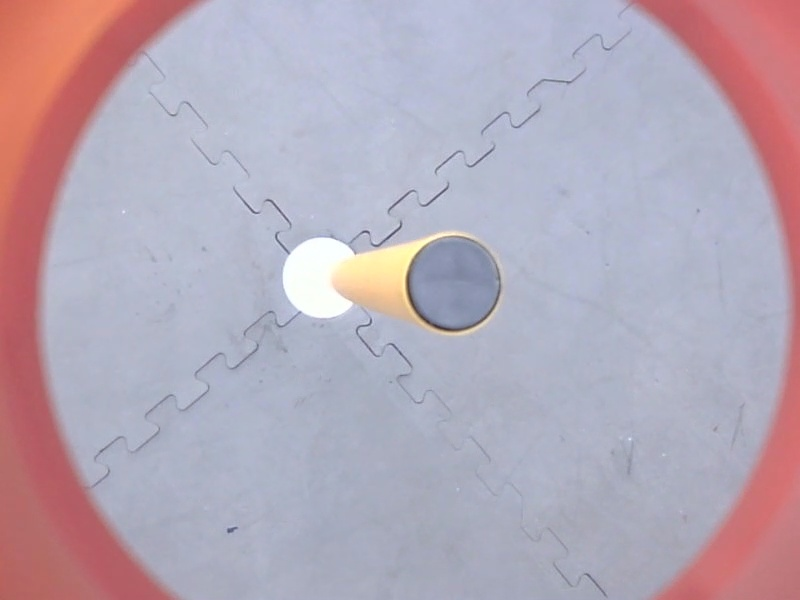tip: (398, 226, 512, 343)
